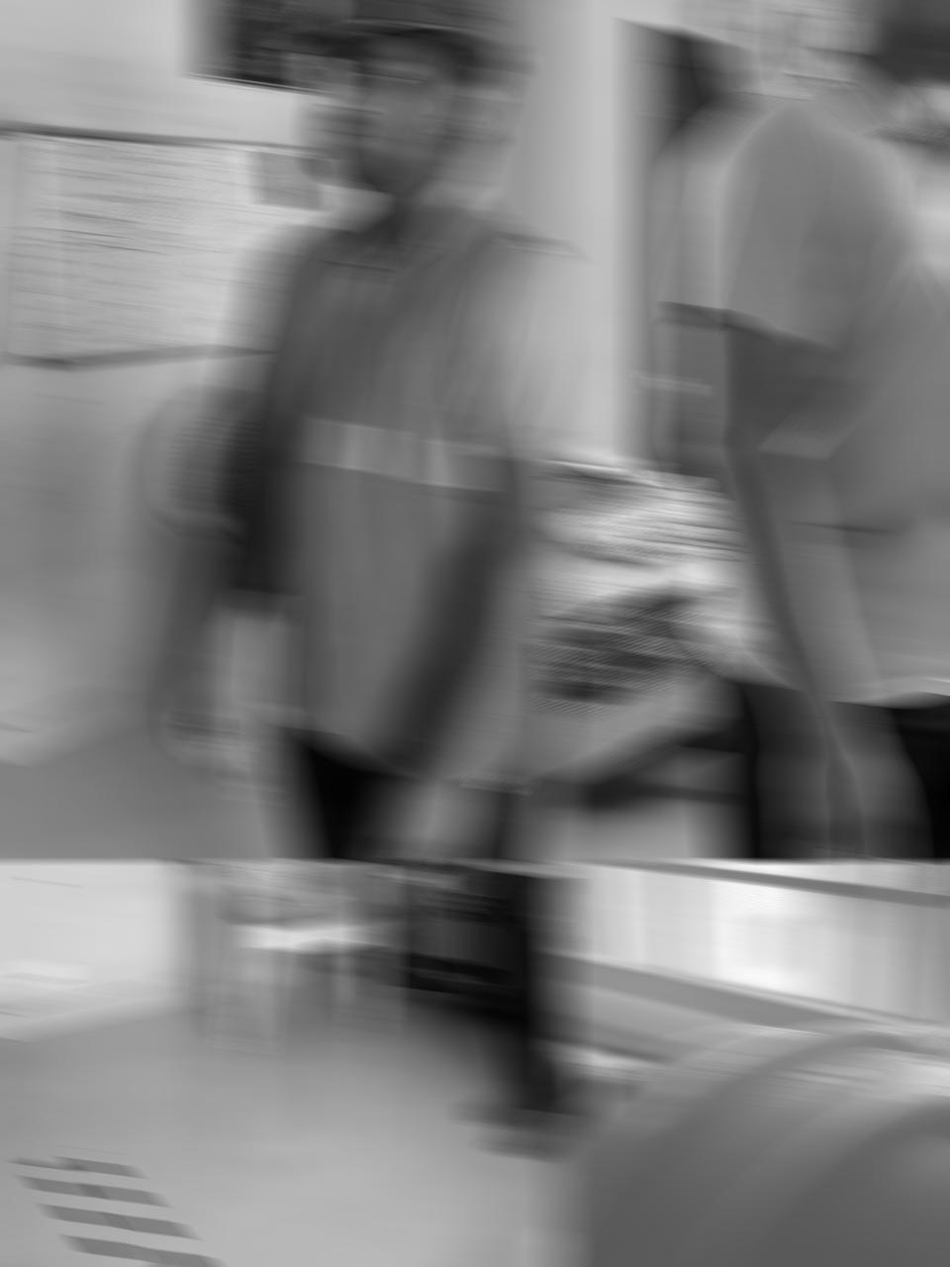BorderLine: (73, 1147, 347, 1267), (28, 1160, 279, 1267)
Helmet: (551, 1017, 950, 1267), (275, 0, 522, 73)
No_Helmet: (789, 0, 950, 88)
No_Vest: (671, 49, 950, 708)
Person: (168, 0, 568, 862), (669, 0, 950, 862), (427, 860, 569, 1157)
Vest: (251, 182, 569, 788)
